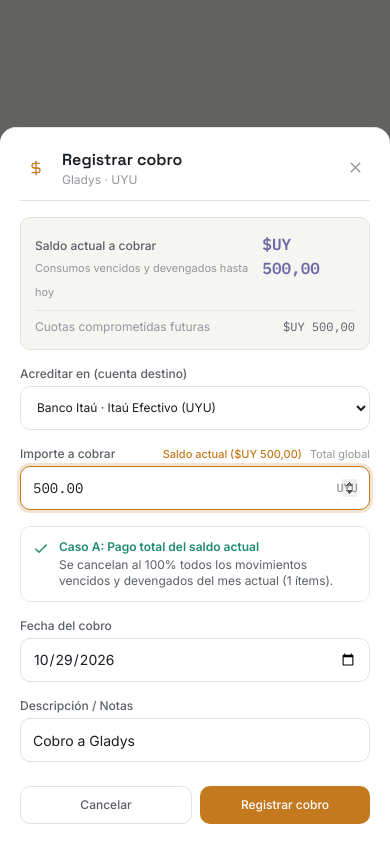
Test: RegisterPersonPaymentModal › detecta Caso C cuando el importe supera el saldo actual para cubrir cuotas futuras
Replace the text in the number field with placeholder "0.00" with "800" at (195, 488), box [20,466,370,510]
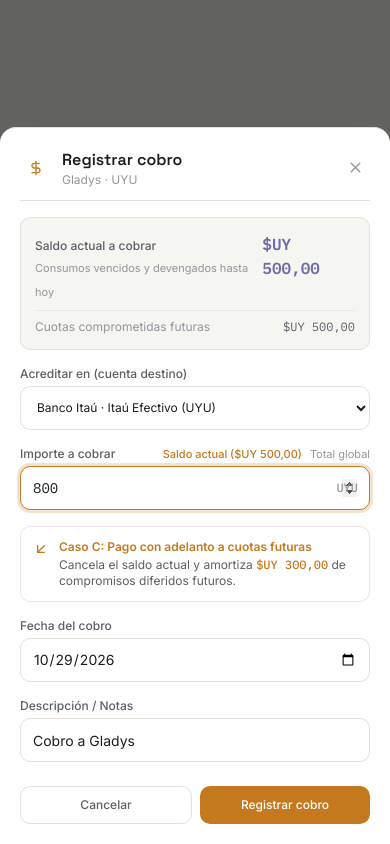
Check: the text "Caso C: Pago con adelanto a cuotas futuras" is shown, box [59,539,312,554]
